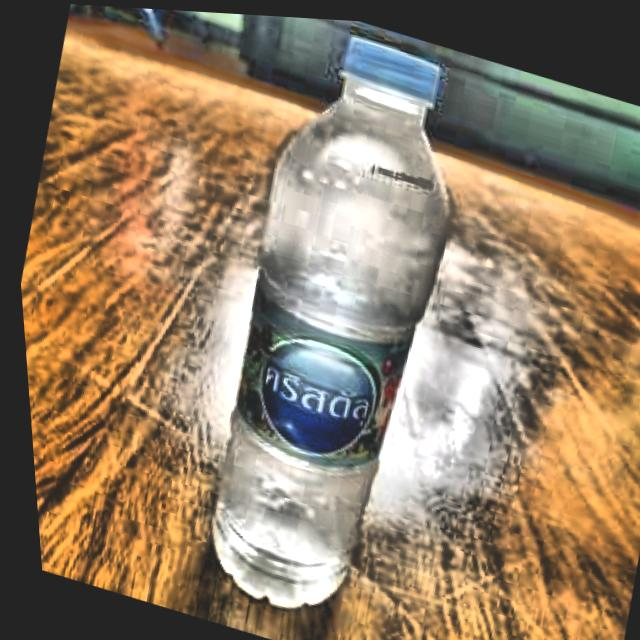Bottles: (124, 6, 545, 640)
